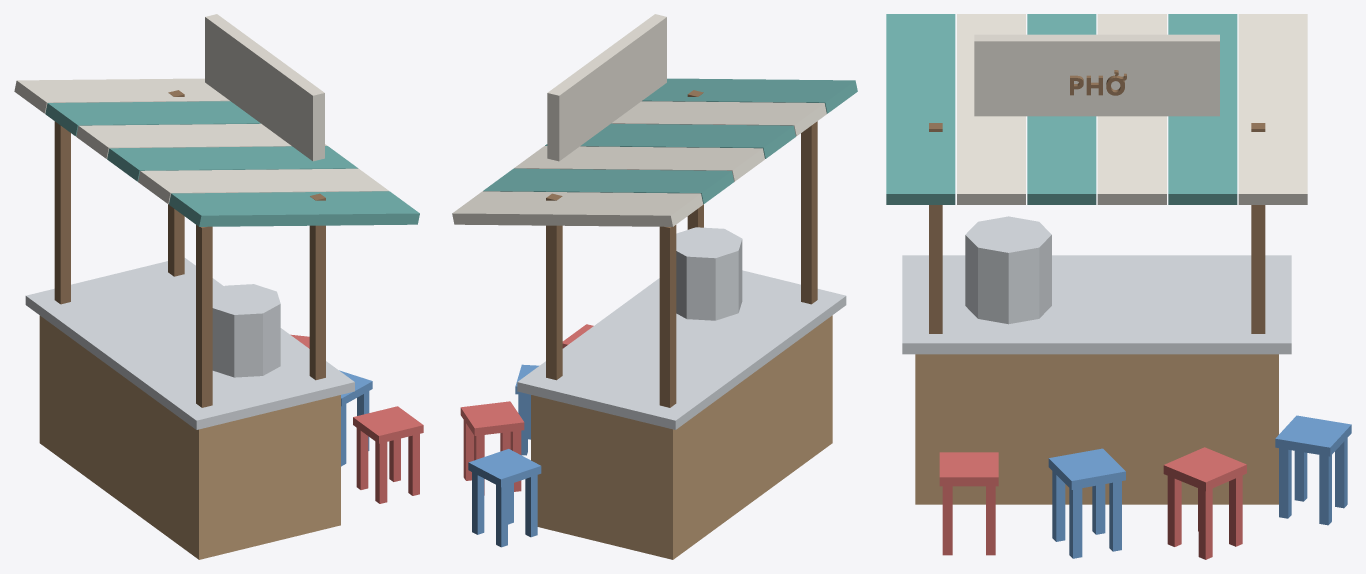
Rendered from LP_Stall_Pho.fbx.
The picture shows the model from 3 angles, left to right: view 1: azimuth 30°, elevation 25°; view 2: azimuth 150°, elevation 25°; view 3: azimuth 270°, elevation 25°; orthographic projection. The views are drawn at different scales.
Visible parts, largest first — view 1: CartBody, CartTop, Sign, Strip_0, BrothPot, Strip_1, Strip_2, Strip_4, Strip_3, Strip_5, PostB_-0.8, PostB_0.8 (+7 smaller); view 2: CartBody, CartTop, Sign, Strip_5, BrothPot, Strip_4, Strip_3, Strip_1, Strip_2, Strip_0, PostB_0.8, PostB_-0.8 (+7 smaller); view 3: CartBody, CartTop, Sign, Strip_0, Strip_5, Strip_4, Strip_1, BrothPot, Strip_2, Strip_3, Seat.002, Seat.003 (+18 smaller).
Part boxes in pixels (x1,y1,x2,y2): CartBody: [39, 315, 340, 559]; CartTop: [25, 258, 354, 429]; Sign: [205, 14, 324, 161]; Strip_0: [169, 191, 419, 226]; BrothPot: [212, 284, 280, 377]; Strip_1: [138, 168, 388, 204]; Strip_2: [107, 146, 358, 181]; Strip_4: [45, 101, 260, 136]; Strip_3: [76, 123, 327, 158]; Strip_5: [14, 78, 230, 113]; PostB_-0.8: [196, 225, 212, 407]; PostB_0.8: [54, 121, 70, 304]; CartBody: [531, 315, 832, 559]; CartTop: [517, 270, 846, 429]; Sign: [547, 14, 666, 161]; Strip_5: [452, 191, 703, 226]; BrothPot: [676, 227, 742, 320]; Strip_4: [483, 168, 733, 204]; Strip_3: [514, 146, 764, 181]; Strip_1: [611, 101, 826, 136]; Strip_2: [545, 123, 795, 158]; Strip_0: [642, 78, 857, 113]; PostB_0.8: [659, 225, 676, 407]; PostB_-0.8: [801, 121, 817, 304]; CartBody: [915, 354, 1278, 504]; CartTop: [902, 255, 1291, 354]; Sign: [974, 34, 1219, 116]; Strip_0: [886, 14, 955, 204]; Strip_5: [1238, 14, 1307, 204]; Strip_4: [1168, 14, 1237, 204]; Strip_1: [957, 14, 1025, 204]; BrothPot: [965, 216, 1051, 324]; Strip_2: [1027, 14, 1096, 204]; Strip_3: [1097, 14, 1166, 204]; Seat.002: [1163, 447, 1246, 491]; Seat.003: [1275, 415, 1351, 456].
Size of the model in its own units: 1.72 by 2.63 by 2.37.
